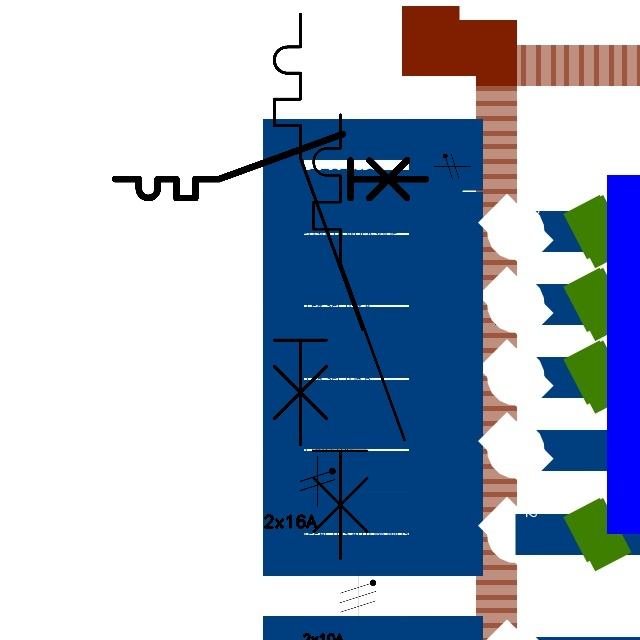interruptor_termomagnetico: (302, 103, 416, 570), (263, 3, 374, 456), (107, 126, 434, 206)
